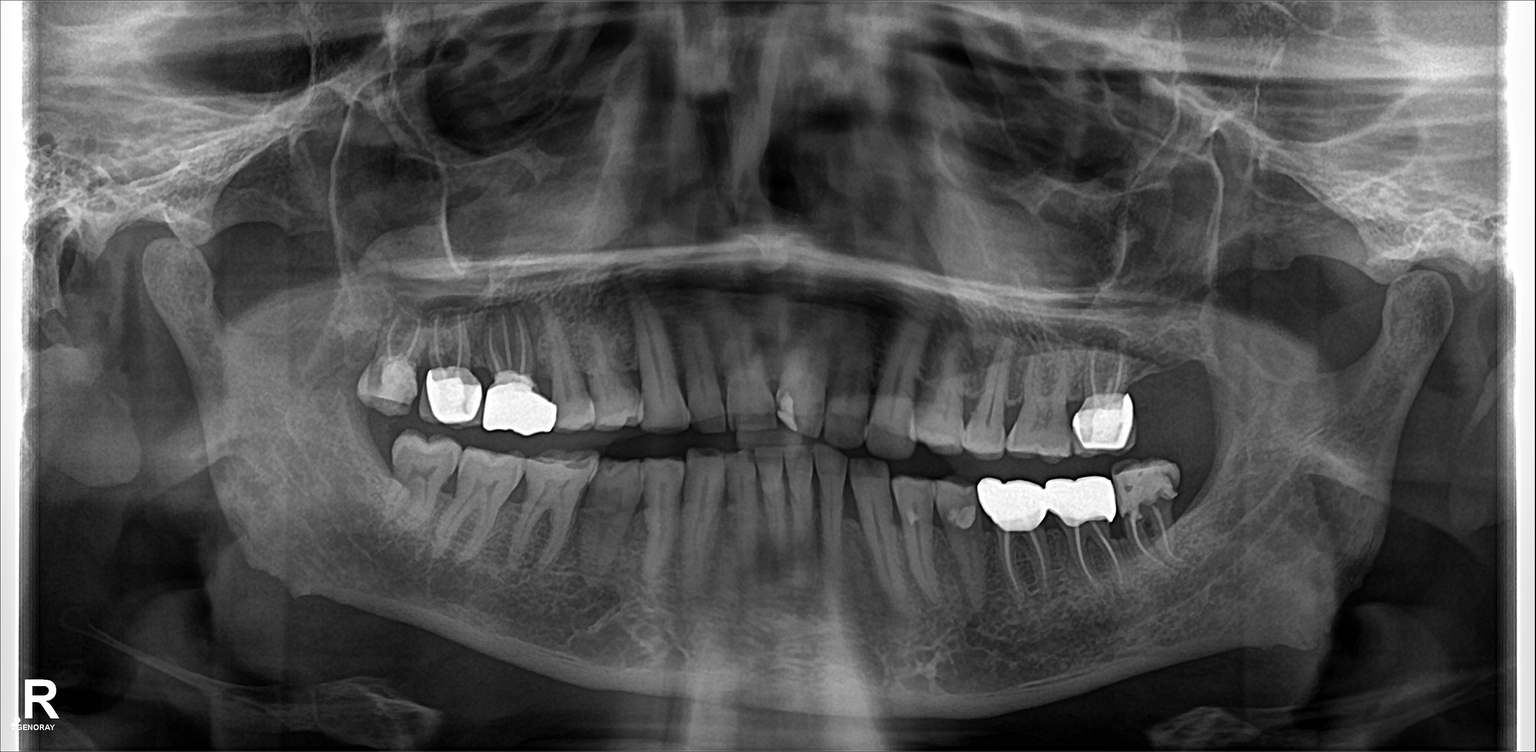Endodontically Treated Tooth: (976, 469, 1047, 597), (482, 307, 556, 425), (1050, 478, 1116, 594), (376, 296, 423, 416), (425, 311, 475, 422), (1127, 467, 1177, 569), (1078, 348, 1128, 447)
Missing Tooth: (1143, 337, 1201, 439), (1184, 454, 1237, 553)
